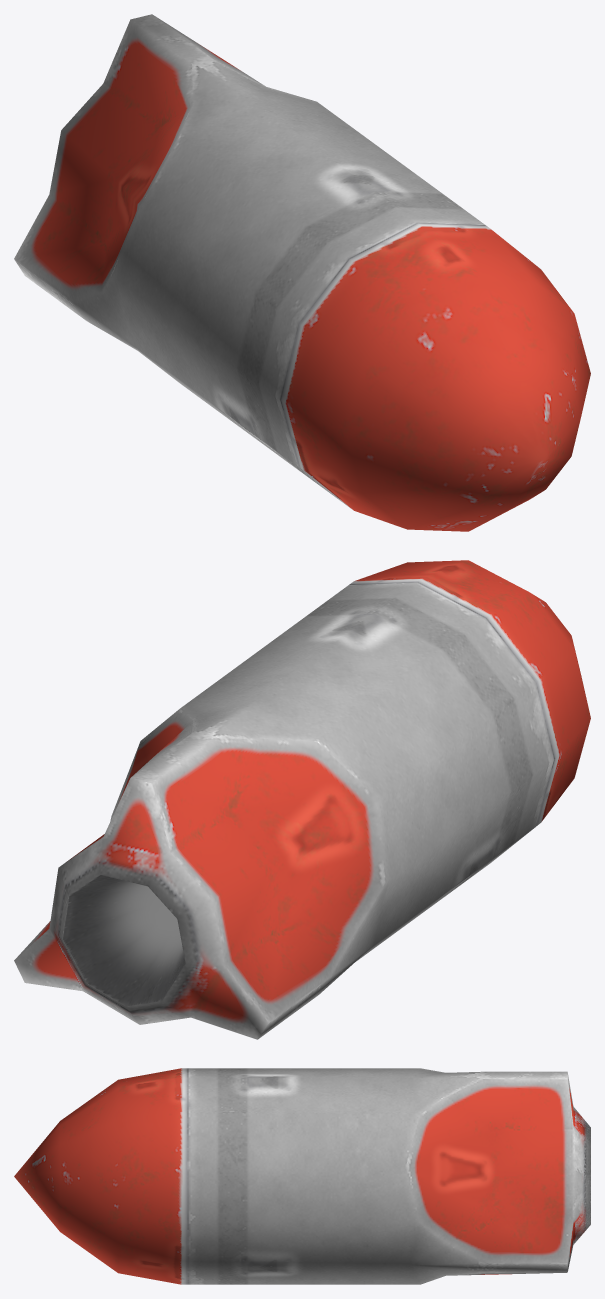
File: Missile.fbx
3 views of the same model, one above another, from view 1: azimuth 30°, elevation 25°; view 2: azimuth 150°, elevation 25°; view 3: azimuth 270°, elevation 25° (orthographic). The views are drawn at different scales.
Visible parts, largest first — view 1: Missile; view 2: Missile; view 3: Missile.
Boxes of the visible parts, box(x1,y1,x2,y2) form: Missile: box(14, 14, 590, 531); Missile: box(14, 560, 590, 1039); Missile: box(14, 1068, 590, 1284).
Size of the model in its own units: 18.7 by 18.95 by 49.66.
